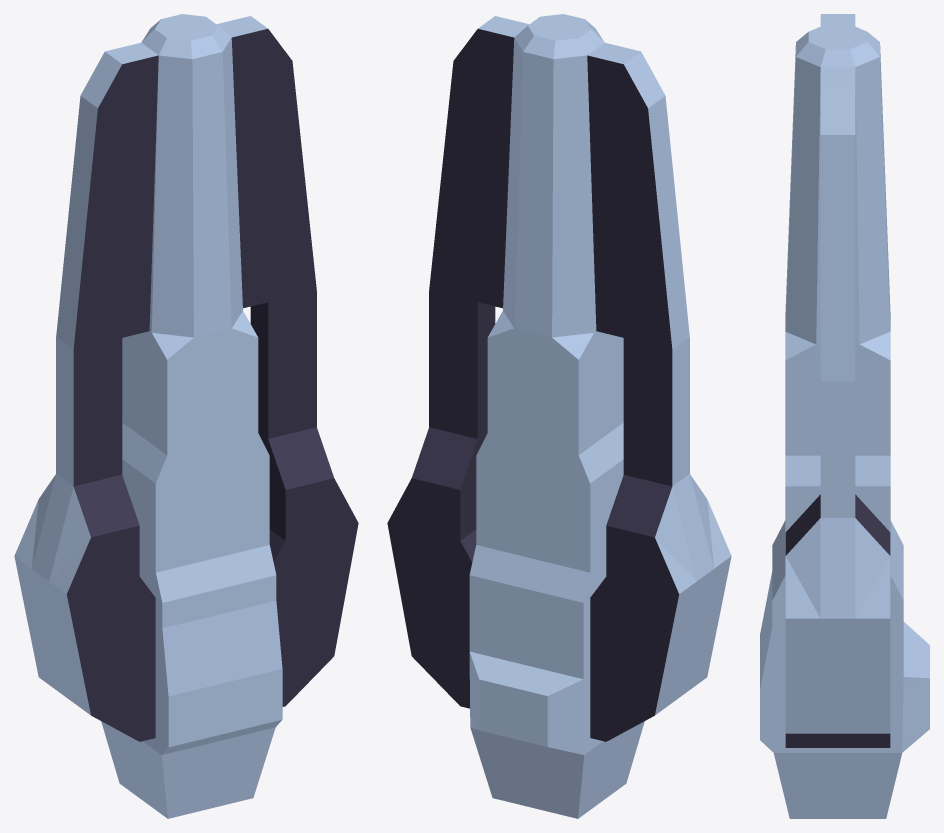
Rendered from DestroyerCollider.fbx.
3 views of the same model, side by side, from view 1: azimuth 30°, elevation 25°; view 2: azimuth 150°, elevation 25°; view 3: azimuth 270°, elevation 25° (orthographic).
Parts seen in each view (by area): view 1: DestroyerCollider; view 2: DestroyerCollider; view 3: DestroyerCollider.
Part boxes in pixels (<box>): DestroyerCollider: <box>14,14,358,818</box>; DestroyerCollider: <box>387,14,731,818</box>; DestroyerCollider: <box>760,14,929,818</box>.
Size of the model in its own units: 336 by 840 by 170.
